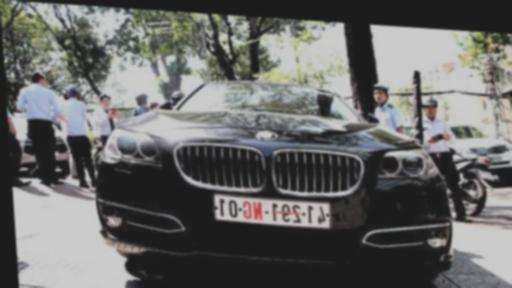License_Plate: (211, 194, 334, 229)
